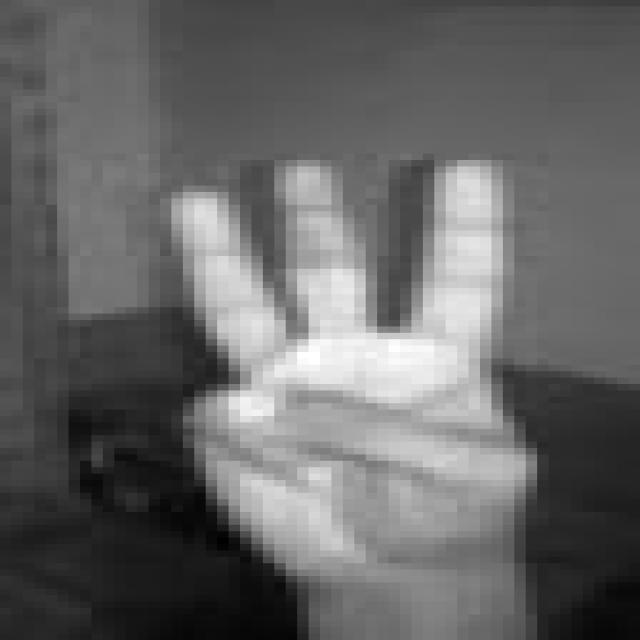W: (155, 153, 554, 582)
